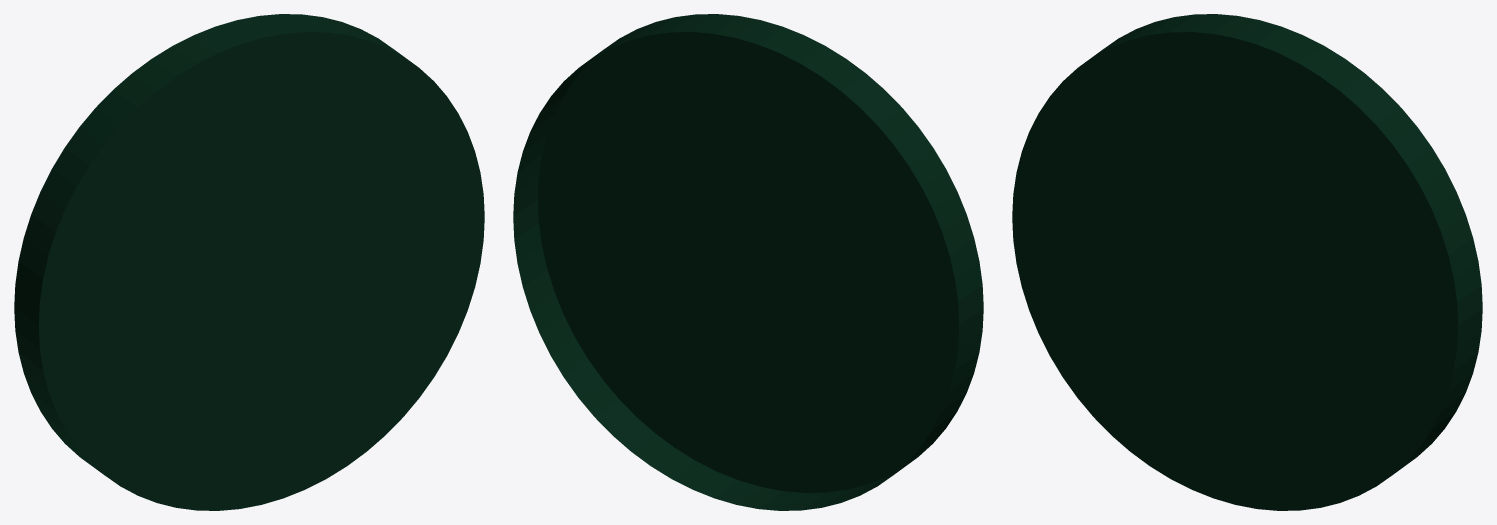
The model's file is Dot.glb.
3 renders of one model, left to right at view 1: azimuth 30°, elevation 25°; view 2: azimuth 150°, elevation 25°; view 3: azimuth 330°, elevation 25°, orthographic.
Parts seen in each view (by area): view 1: Dot; view 2: Dot; view 3: Dot.
Boxes of the visible parts, <box> form: Dot: <box>14,14,484,510</box>; Dot: <box>513,14,983,510</box>; Dot: <box>1012,14,1482,510</box>.
Bounding box in the file's own units: 0.22 × 0.22 × 0.021.
